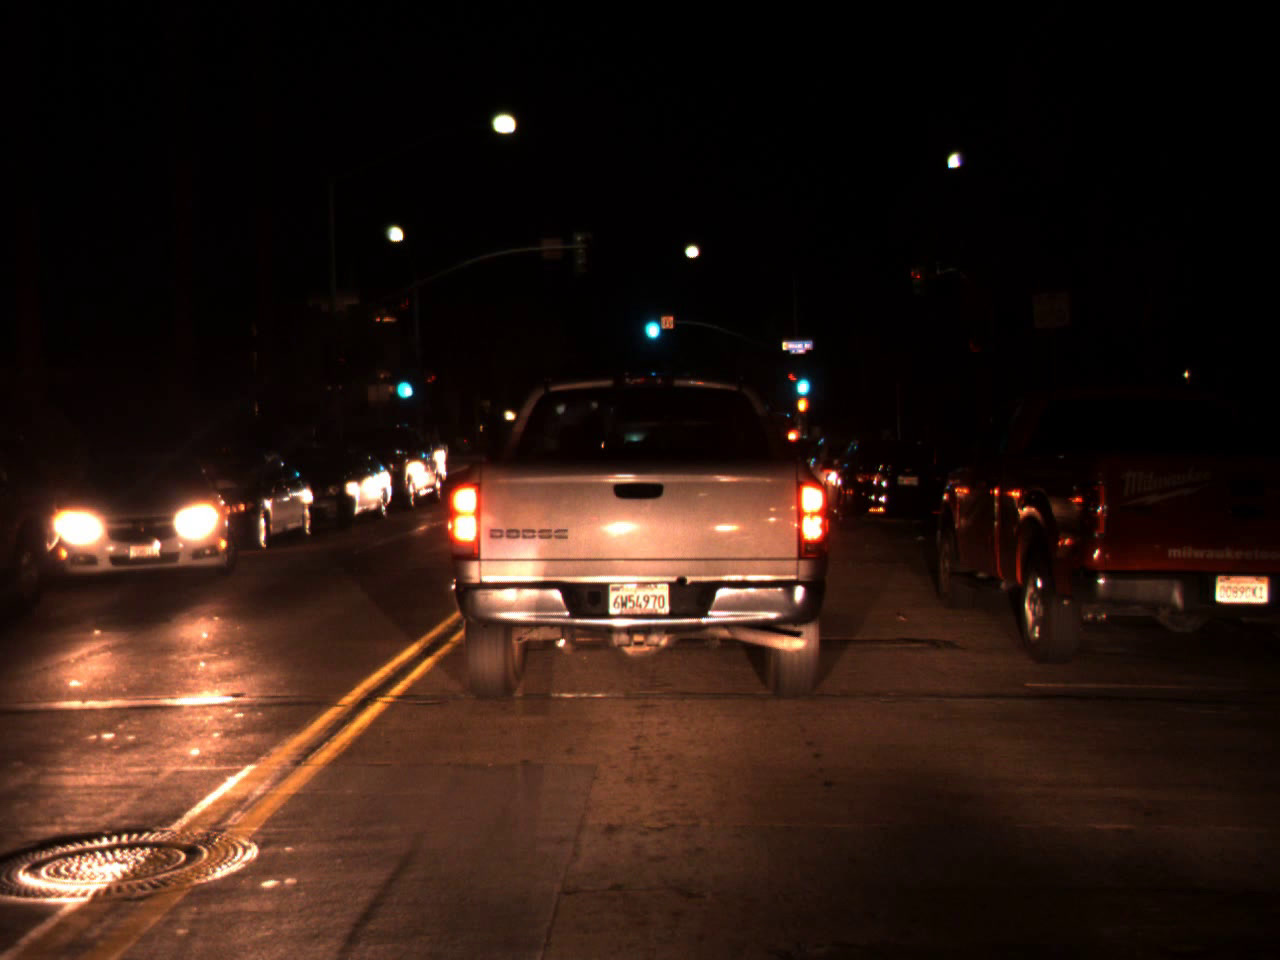go: (639, 301, 662, 345), (392, 362, 413, 404), (792, 359, 811, 401)
